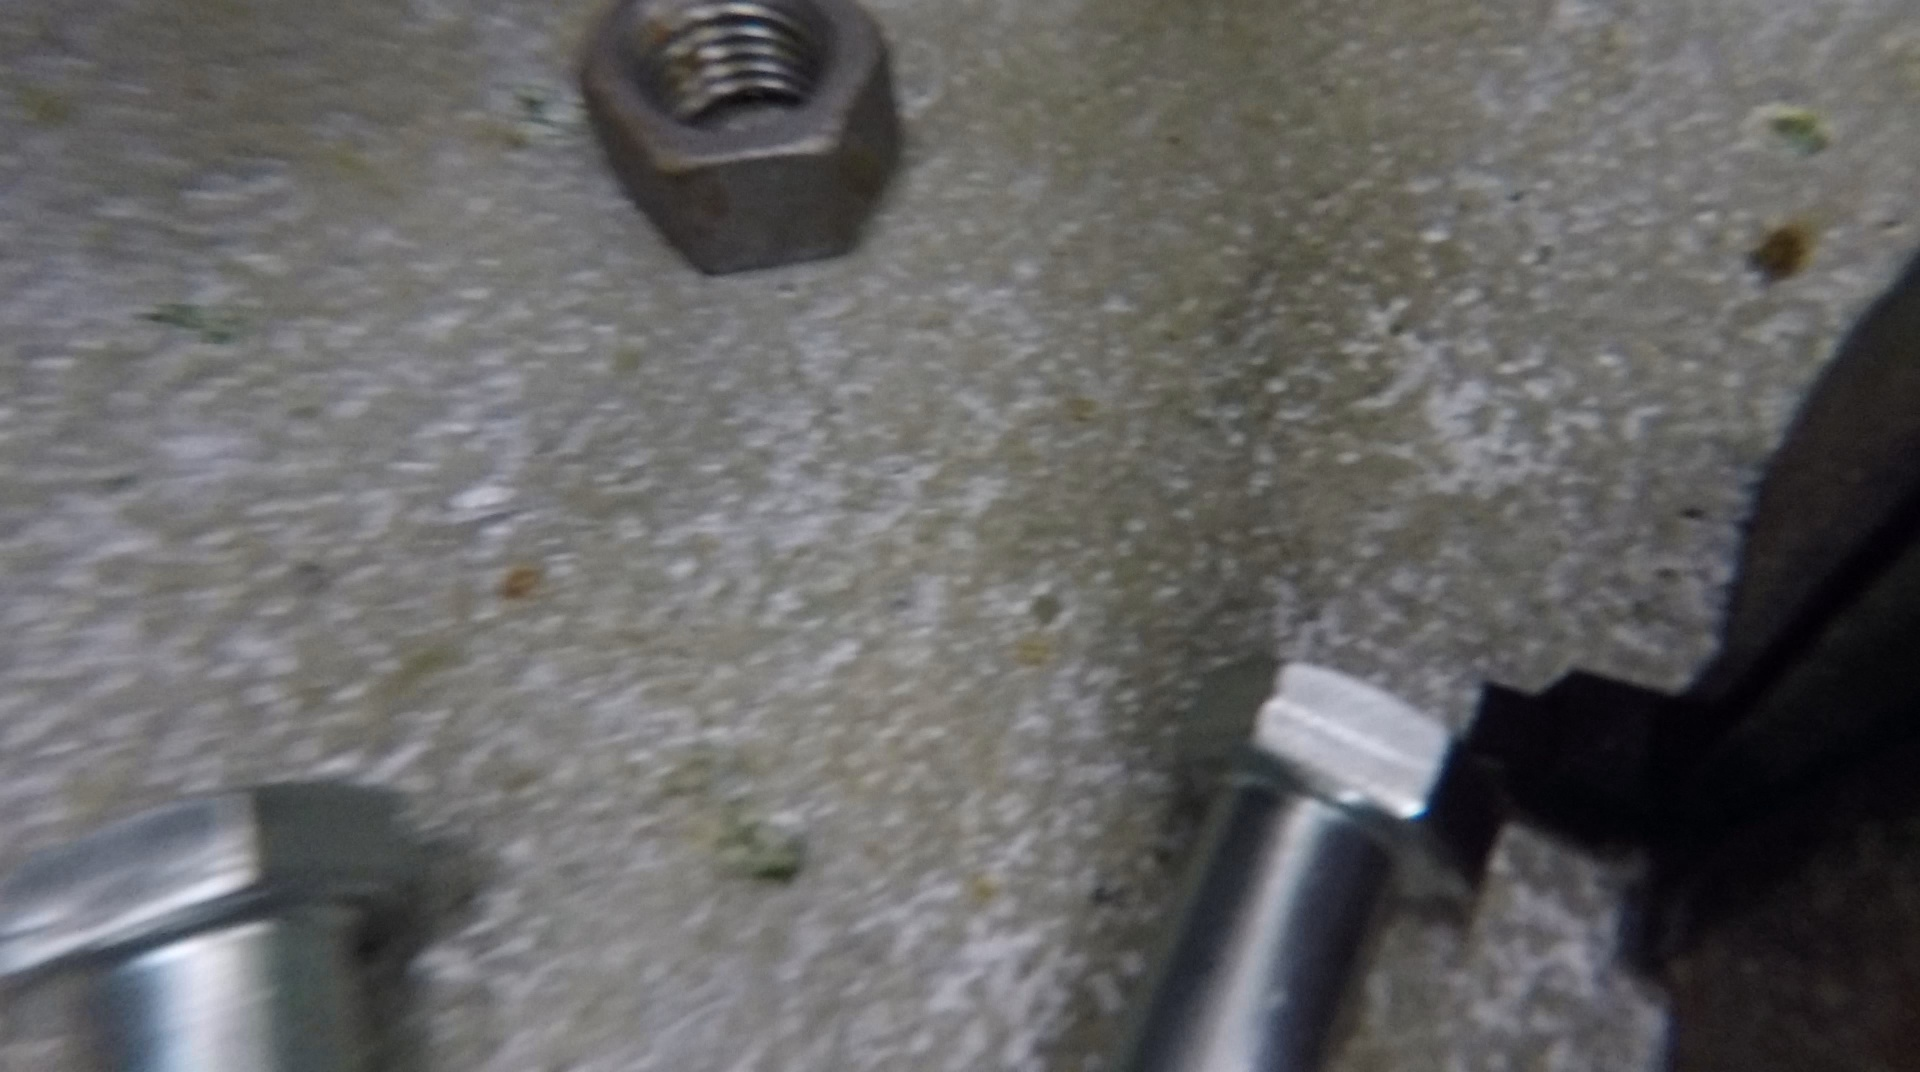bolt: (1116, 653, 1505, 1072), (8, 783, 454, 1072)
led_block: (1474, 251, 1919, 1072)
nut: (579, 1, 903, 280)
